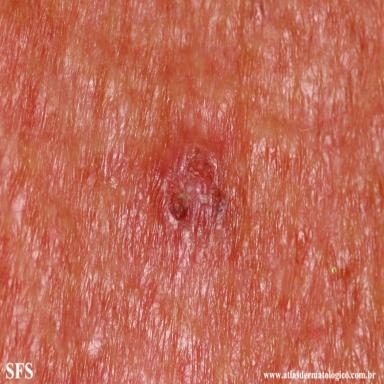basal-cell-carcinoma: (153, 133, 229, 244)
